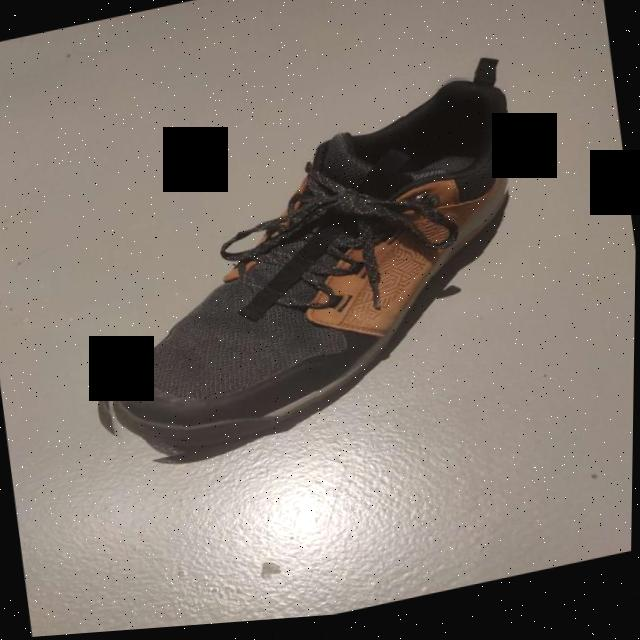shoe: (59, 70, 550, 475)
